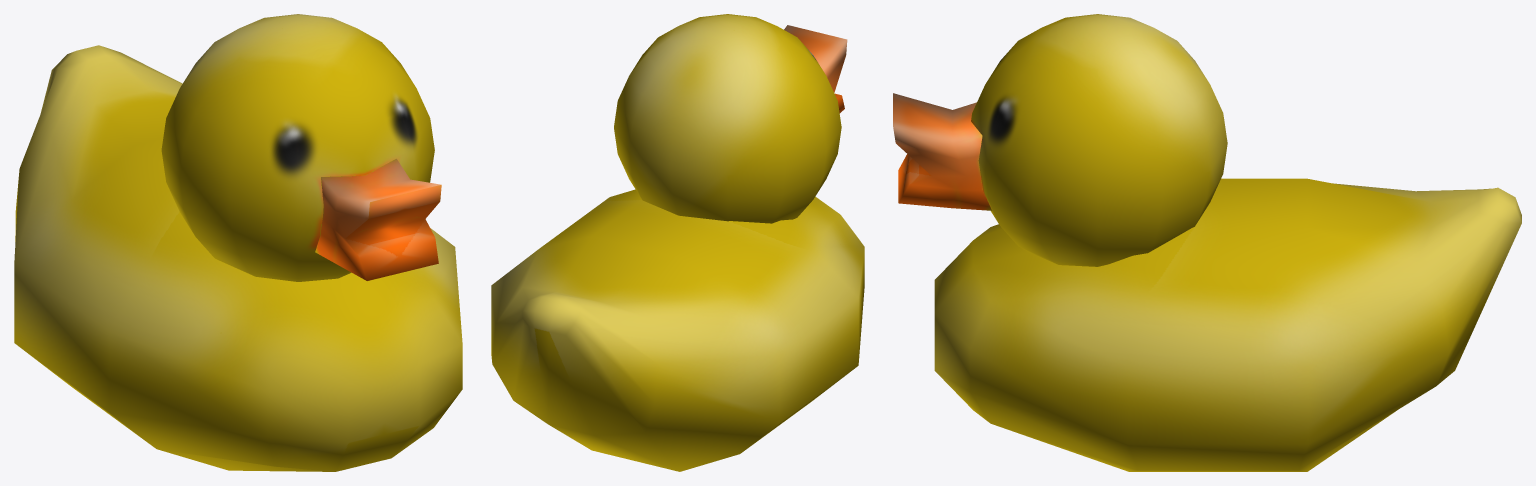
The model's file is rubber_duck.glb.
3 views of the same model, side by side, from view 1: azimuth 30°, elevation 25°; view 2: azimuth 150°, elevation 25°; view 3: azimuth 270°, elevation 25° (orthographic). The views are drawn at different scales.
Parts seen in each view (by area): view 1: Cube.010; view 2: Cube.010; view 3: Cube.010.
Part boxes in pixels (x1,y1,x2,y2): Cube.010: (14,14,462,471); Cube.010: (491,14,864,471); Cube.010: (893,14,1521,471).
Bounding box in the file's own units: 1.32 × 1.61 × 2.18.
Materials: 1 (1 with a texture image).
